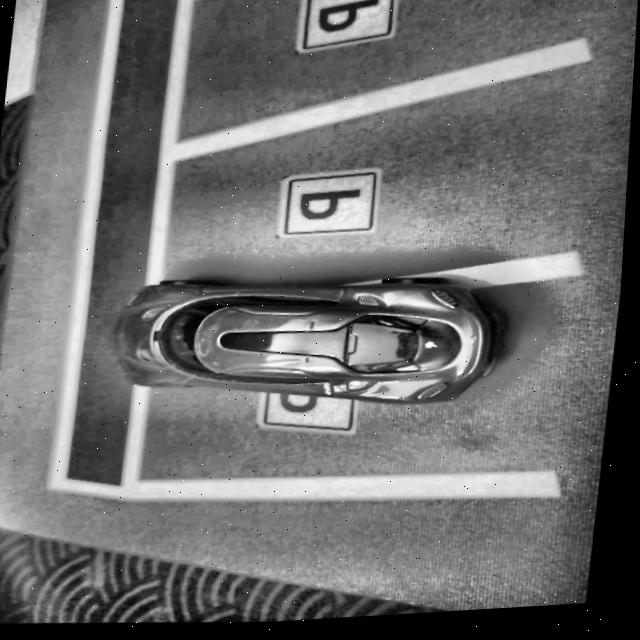car: (105, 261, 512, 428)
